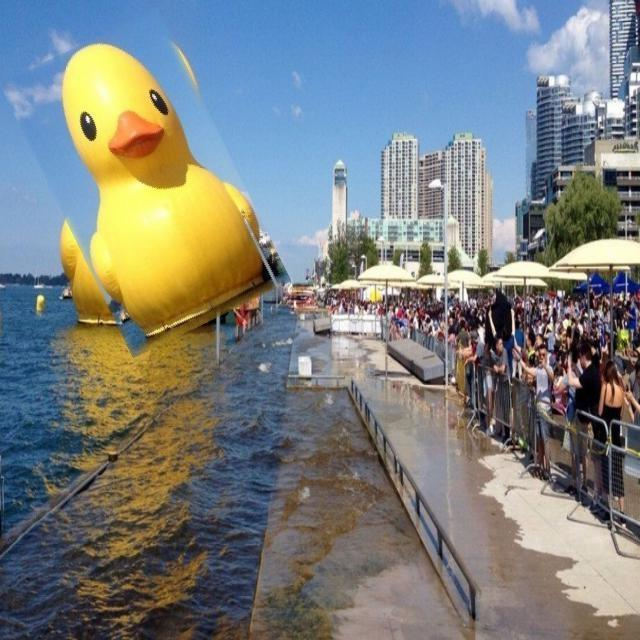rubber-duck: (59, 43, 267, 334)
